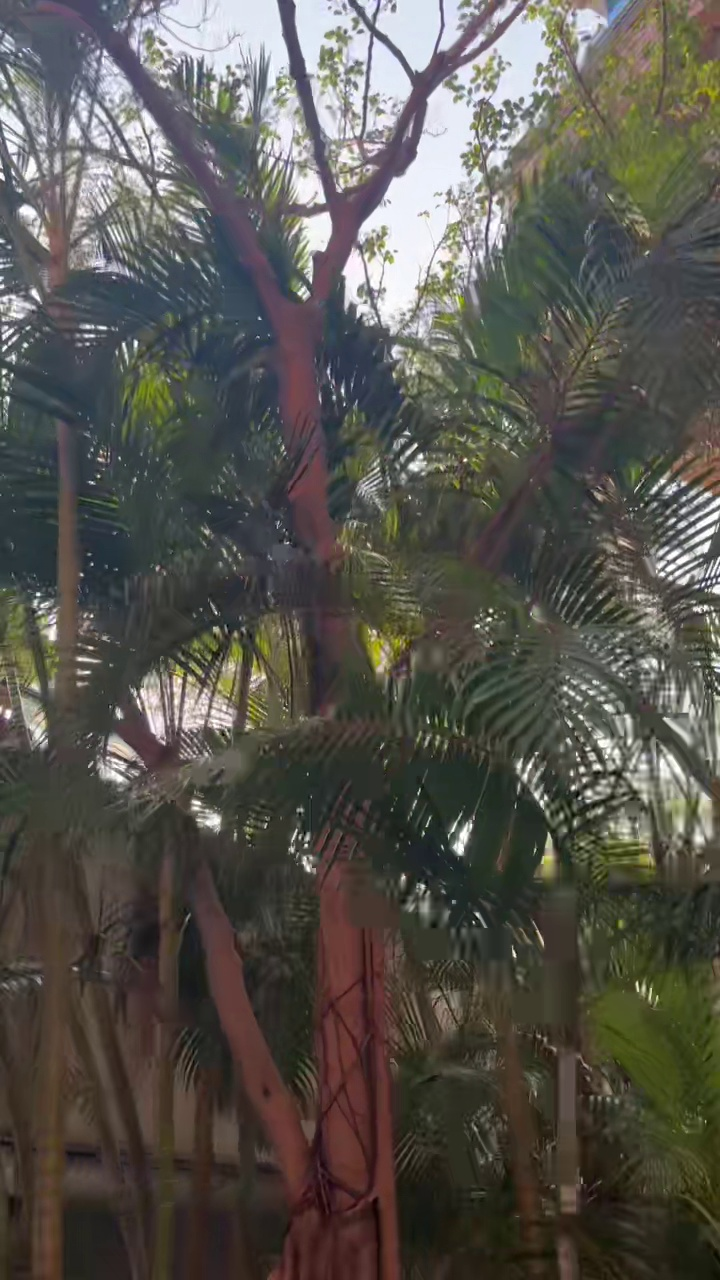Ficus benjamina: (63, 0, 490, 1279)
